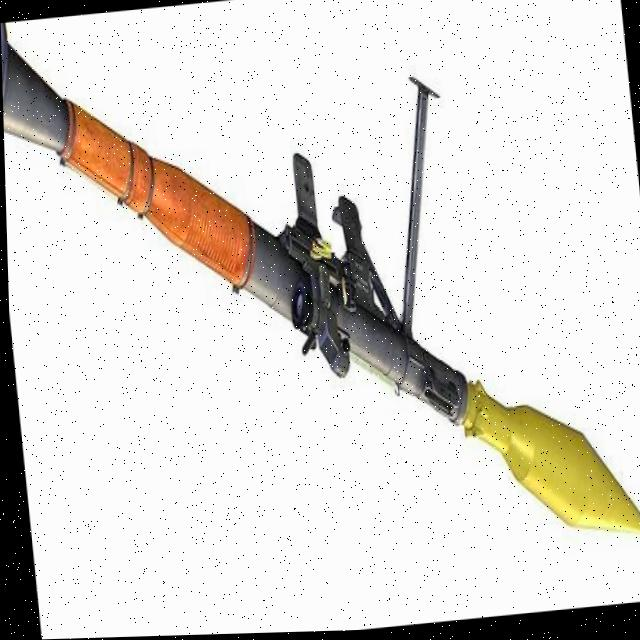grenade: (461, 369, 640, 560)
rocket: (0, 0, 467, 468)
